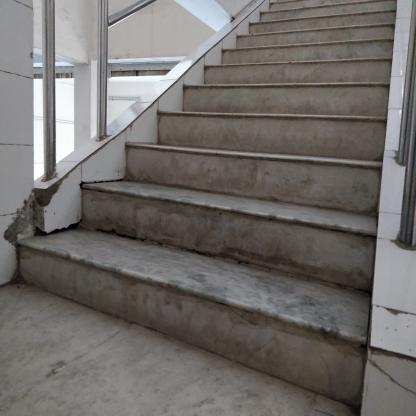stairs: (185, 99, 359, 416)
